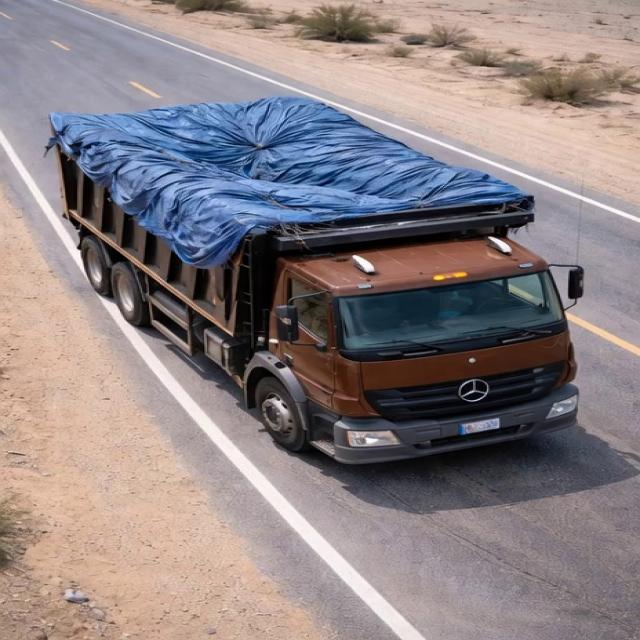Box: (61, 100, 538, 251)
Truck: (26, 81, 607, 448)
